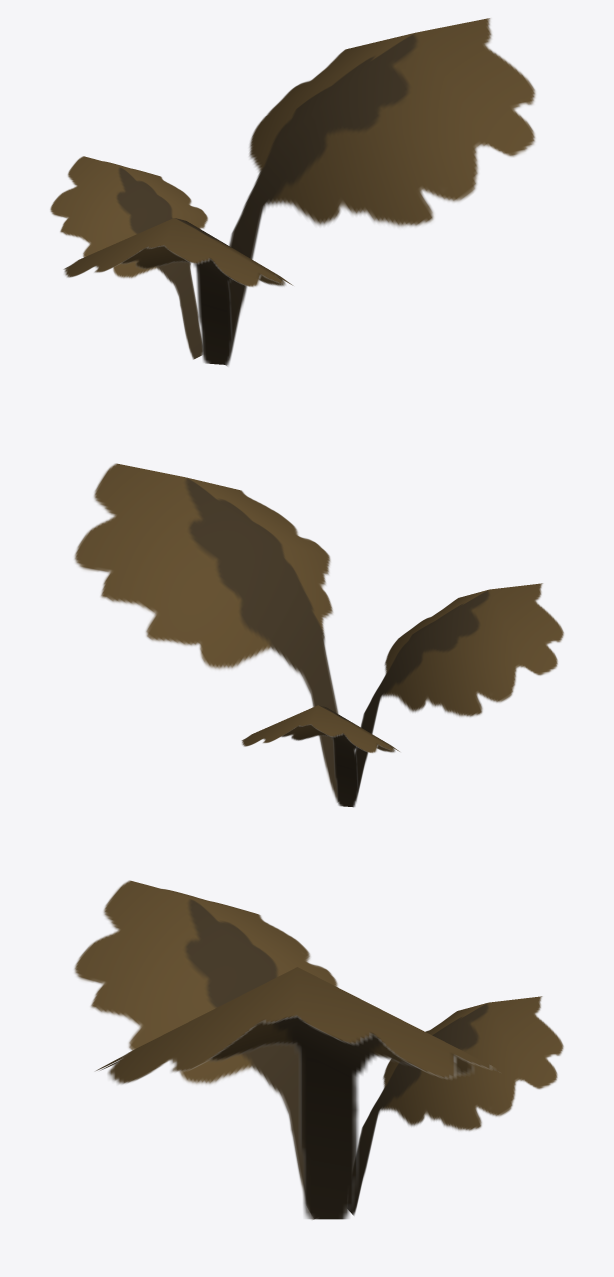
File: env_plant2_painty_01_v1.glb
The picture shows the model from 3 angles, top to bottom: view 1: azimuth 30°, elevation 25°; view 2: azimuth 150°, elevation 25°; view 3: azimuth 270°, elevation 25°; orthographic projection. The views are drawn at different scales.
Visible parts, largest first — view 1: grass_plane.010; view 2: grass_plane.010; view 3: grass_plane.010.
Part boxes in pixels (x1=…): grass_plane.010: x1=50, y1=18, x2=536, y2=366; grass_plane.010: x1=73, y1=463, x2=564, y2=807; grass_plane.010: x1=73, y1=880, x2=564, y2=1219.
Bounding box in the file's own units: 0.79 × 0.432 × 0.6292.
1 material, 1 textured.
